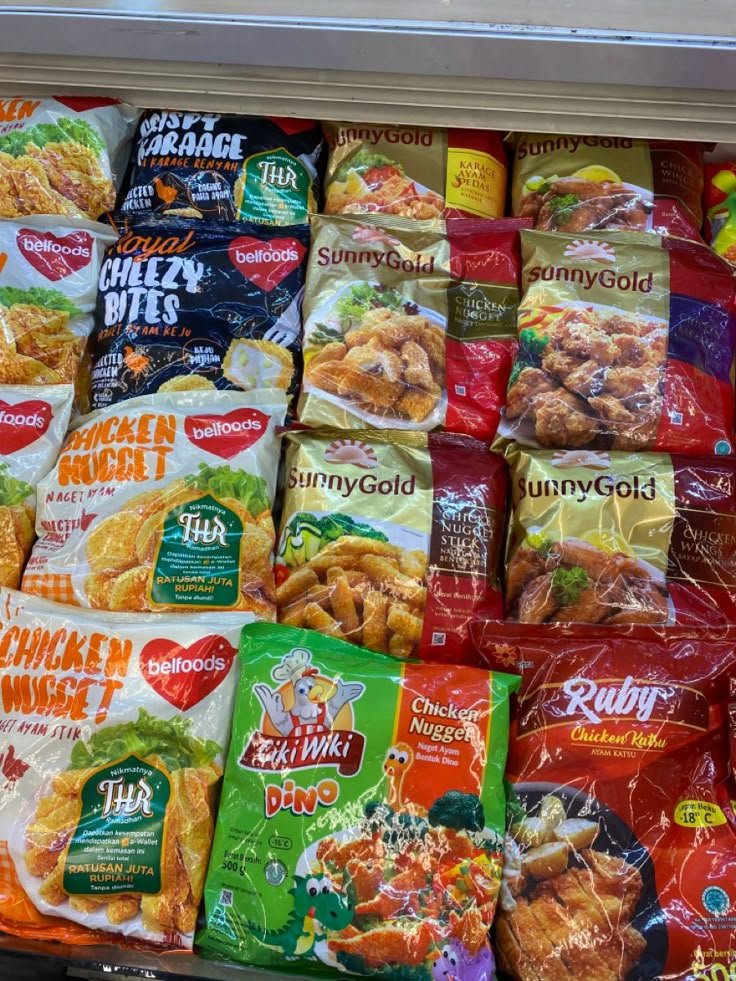Cheezy Bites: (87, 219, 326, 422)
Sunny Gold: (274, 425, 490, 636)
